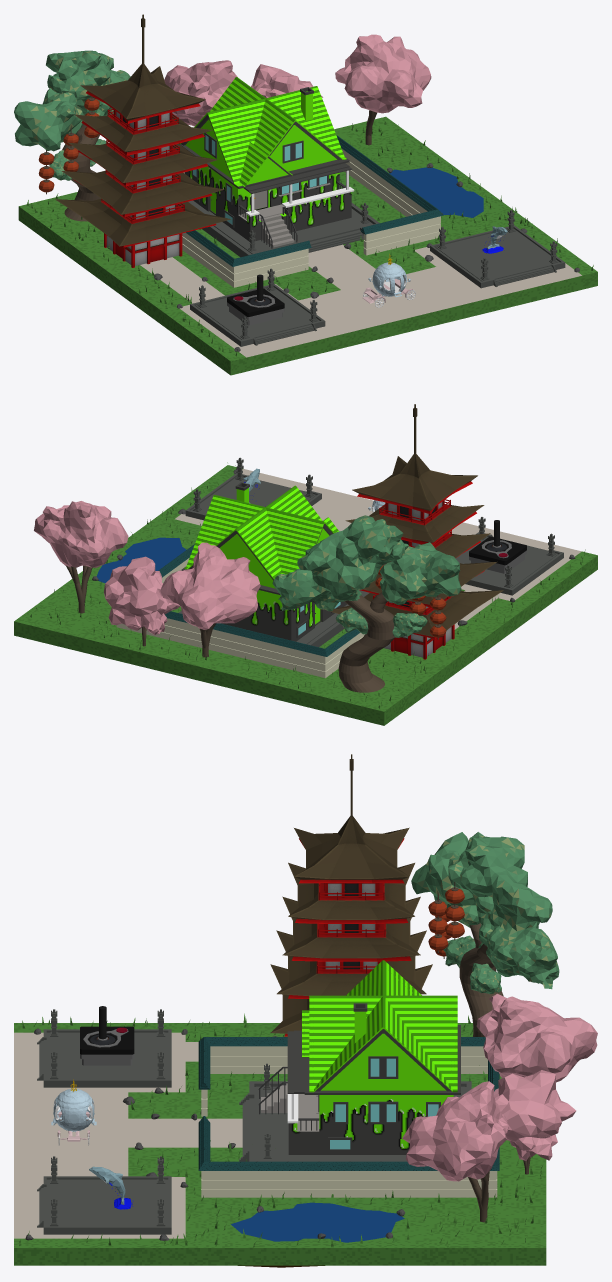
3 renders of one model, top to bottom at view 1: azimuth 30°, elevation 25°; view 2: azimuth 150°, elevation 25°; view 3: azimuth 270°, elevation 25°, orthographic. The views are drawn at different scales.
Parts seen in each view (by area): view 1: Cube.005, Cube.754, OBJRANDOM_JOYSTICK, VEHICLES_FANTASY_CARRIAGE; view 2: Cube.005, Cube.754, OBJRANDOM_JOYSTICK; view 3: Cube.005, Cube.754, OBJRANDOM_JOYSTICK, VEHICLES_FANTASY_CARRIAGE, ANIMAL_DELFIN.
Part boxes in pixels (x1=…): Cube.005: x1=14, y1=14, x2=597, y2=375; Cube.754: x1=179, y1=77, x2=354, y2=248; OBJRANDOM_JOYSTICK: x1=227, y1=274, x2=284, y2=325; VEHICLES_FANTASY_CARRIAGE: x1=362, y1=254, x2=415, y2=307; Cube.005: x1=14, y1=404, x2=597, y2=725; Cube.754: x1=181, y1=482, x2=346, y2=641; OBJRANDOM_JOYSTICK: x1=469, y1=520, x2=526, y2=573; Cube.005: x1=14, y1=754, x2=597, y2=1265; Cube.754: x1=258, y1=960, x2=460, y2=1154; OBJRANDOM_JOYSTICK: x1=80, y1=1006, x2=134, y2=1065; VEHICLES_FANTASY_CARRIAGE: x1=51, y1=1079, x2=96, y2=1145; ANIMAL_DELFIN: x1=89, y1=1166, x2=133, y2=1209.
Size of the model in its own units: 4528 by 2756 by 4389.
Materials: 41 (6 with a texture image).
